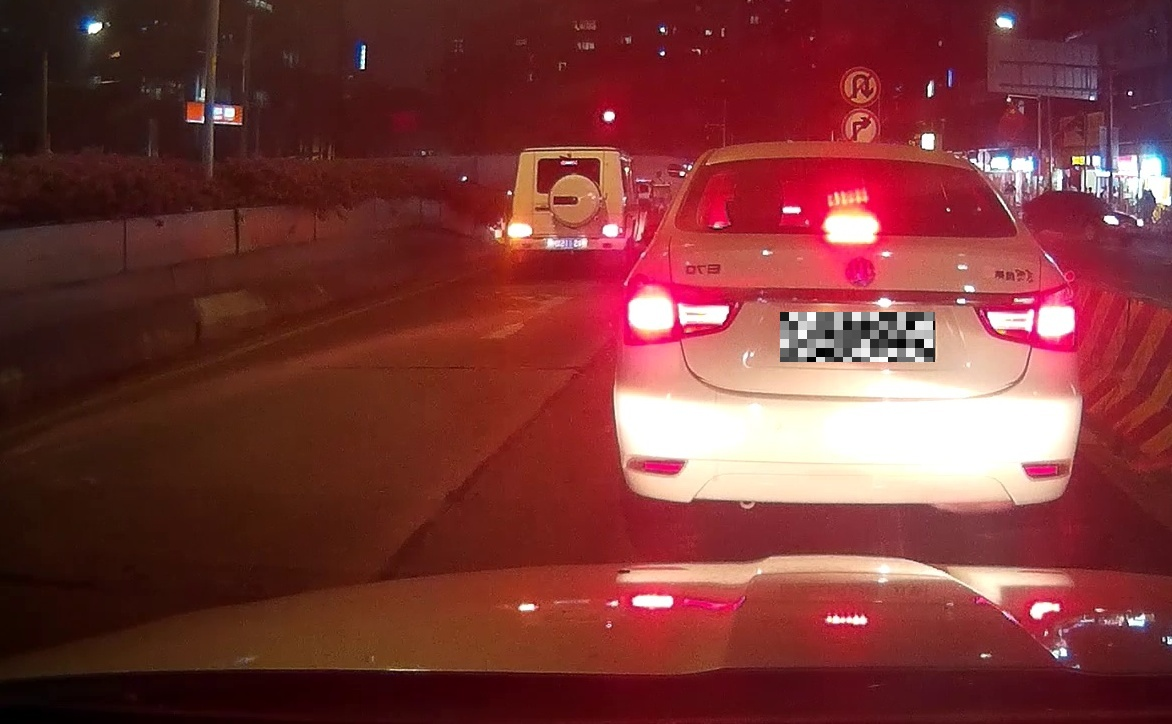L_light: (620, 274, 742, 346)
R_light: (973, 281, 1079, 351)
T_light: (823, 214, 876, 235)
night-brake: (619, 140, 1081, 535)
plate_1: (780, 312, 935, 362)
